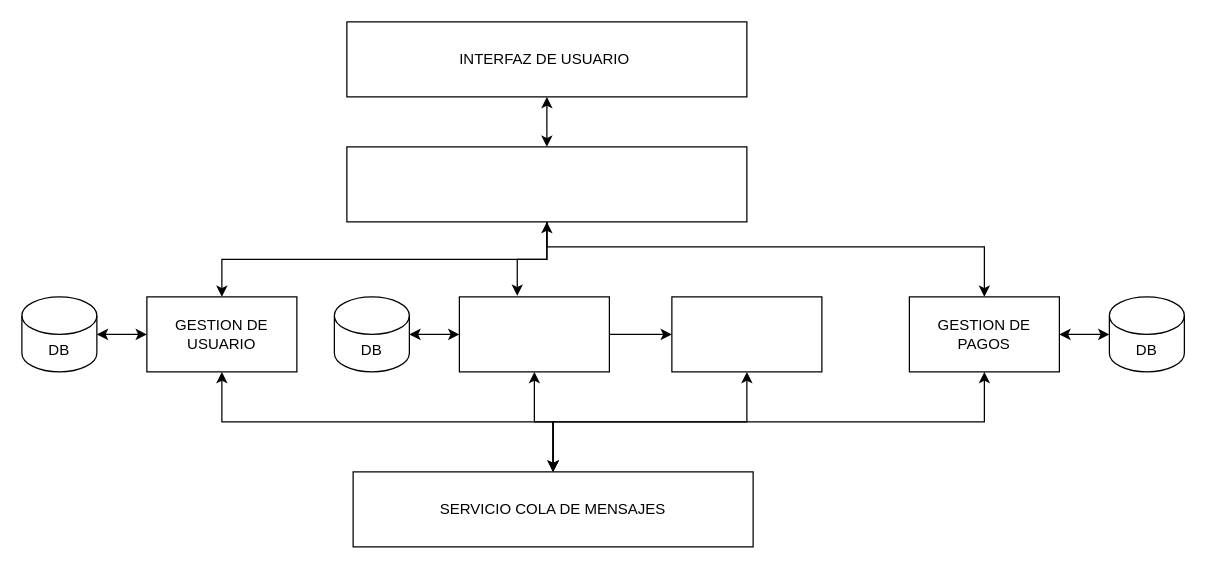
This 1206x569 diagram has some shape labels left out. The shapes that lost their labels are listed below. From the top down, each one's centre as x and y in pixels, then its label:
At pixel 546 184: "API".
At pixel 533 334: "PROCESAMIENTO DE DOCUMENTOS".
At pixel 746 334: "SISTEMA DE IMPRESIONES".
